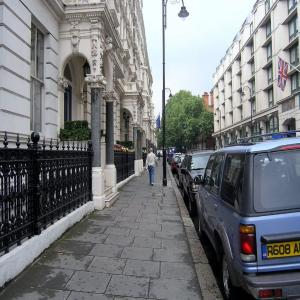Vehicle-registration-plate: (263, 242, 300, 260)
